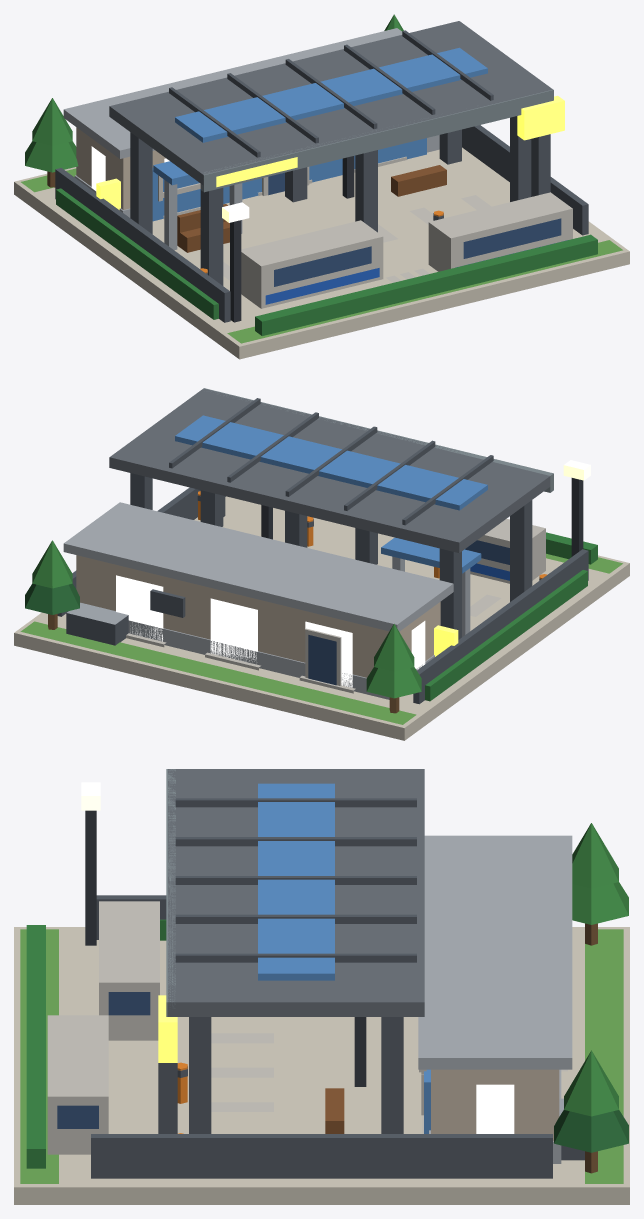
The picture shows the model from 3 angles, top to bottom: view 1: azimuth 30°, elevation 25°; view 2: azimuth 150°, elevation 25°; view 3: azimuth 270°, elevation 25°; orthographic projection. The views are drawn at different scales.
Visible parts, largest first — view 1: b31; view 2: b31; view 3: b31.
Part boxes in pixels (x1=…): b31: x1=14, y1=14, x2=629, y2=359; b31: x1=14, y1=388, x2=629, y2=740; b31: x1=14, y1=769, x2=629, y2=1204.
Bounding box in the file's own units: 0.975 × 0.34 × 0.96.
